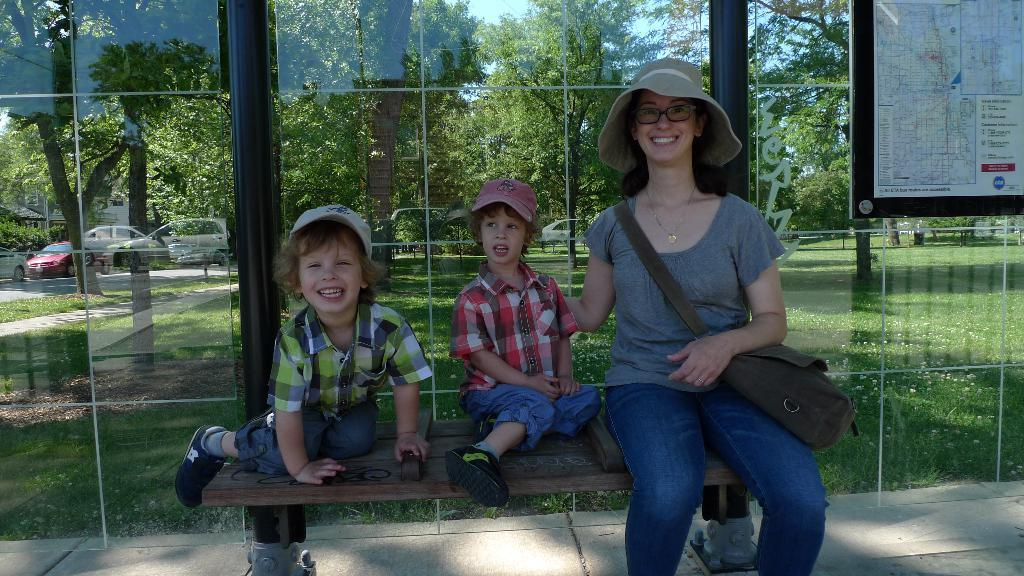Hat: (592, 55, 742, 168), (288, 205, 374, 257), (474, 177, 538, 226)
